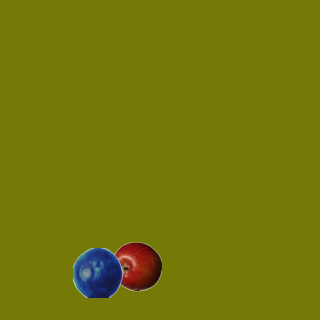Apple Braeburn: (111, 241, 161, 291)
Huckleberry: (72, 247, 122, 297)
